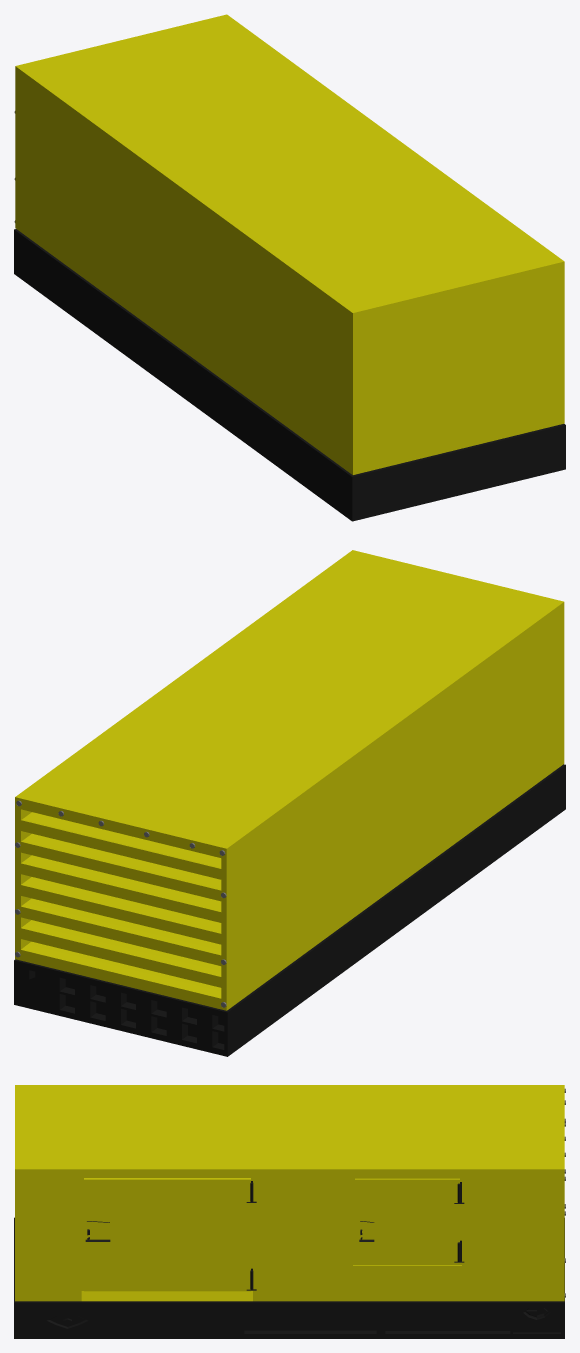
The model's file is Generator.fbx.
The picture shows the model from 3 angles, top to bottom: view 1: azimuth 30°, elevation 25°; view 2: azimuth 150°, elevation 25°; view 3: azimuth 270°, elevation 25°; orthographic projection. The views are drawn at different scales.
Parts seen in each view (by area): view 1: Cube; view 2: Cube; view 3: Cube.
Part boxes in pixels (x1,y1,x2,y2): Cube: (14, 14, 565, 521); Cube: (14, 550, 565, 1056); Cube: (14, 1085, 565, 1338).
Size of the model in its own units: 283 by 252 by 744.
